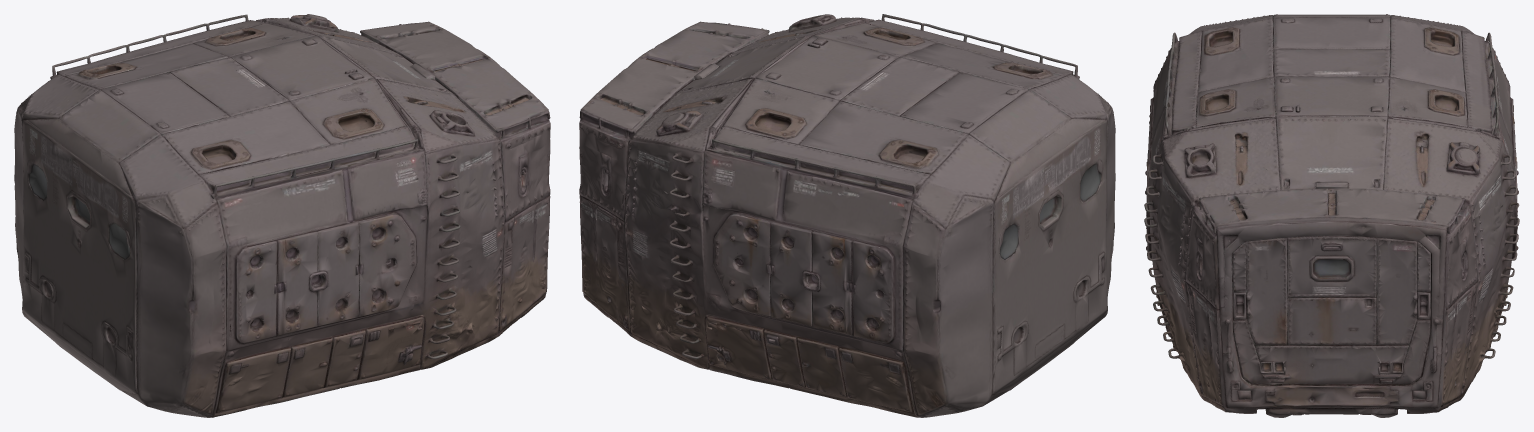
File: weathered_sci-fi_cargo_3d_model.fbx
The picture shows the model from 3 angles, left to right: view 1: azimuth 30°, elevation 25°; view 2: azimuth 150°, elevation 25°; view 3: azimuth 270°, elevation 25°; orthographic projection. The views are drawn at different scales.
Parts seen in each view (by area): view 1: tripo_node_8c709b78; view 2: tripo_node_8c709b78; view 3: tripo_node_8c709b78.
Boxes of the visible parts, x1,y1,x2,y2 form: tripo_node_8c709b78: (14,14,550,417); tripo_node_8c709b78: (579,14,1115,417); tripo_node_8c709b78: (1144,14,1519,417).
Bounding box in the file's own units: 0.9797 × 0.6101 × 0.796.
